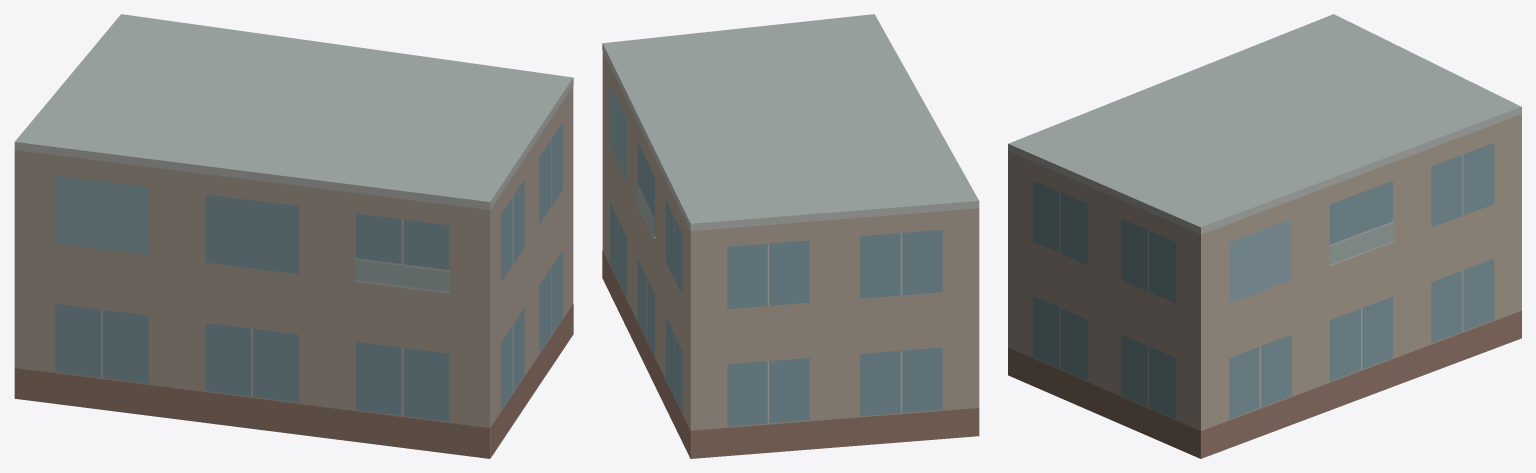
Rendered from survey-upis-32956025.glb.
The picture shows the model from 3 angles, left to right: view 1: azimuth 30°, elevation 25°; view 2: azimuth 150°, elevation 25°; view 3: azimuth 270°, elevation 25°; orthographic projection. The views are drawn at different scales.
Parts seen in each view (by area): view 1: survey-upis-32956025.tmp; view 2: survey-upis-32956025.tmp; view 3: survey-upis-32956025.tmp.
Boxes of the visible parts, left/top/right/bottom form: survey-upis-32956025.tmp: left=14, top=14, right=573, bottom=458; survey-upis-32956025.tmp: left=602, top=14, right=979, bottom=458; survey-upis-32956025.tmp: left=1008, top=14, right=1521, bottom=458.
Bounding box in the file's own units: 15.43 × 7.8 × 15.7.
